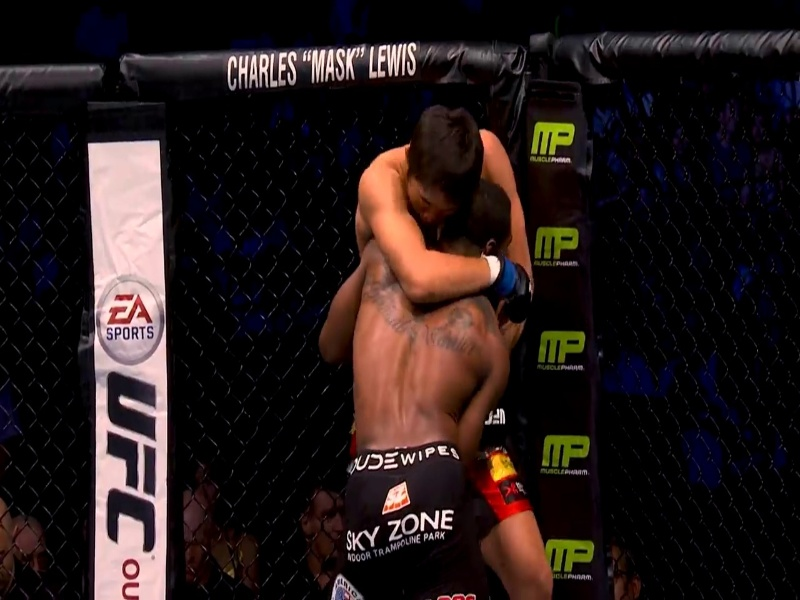fighter: (352, 104, 588, 597), (302, 174, 544, 600)
